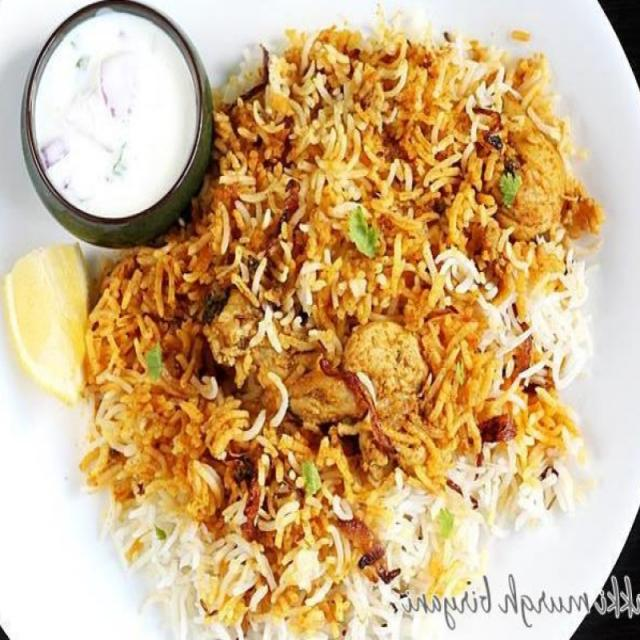Biryani: (87, 28, 590, 639)
